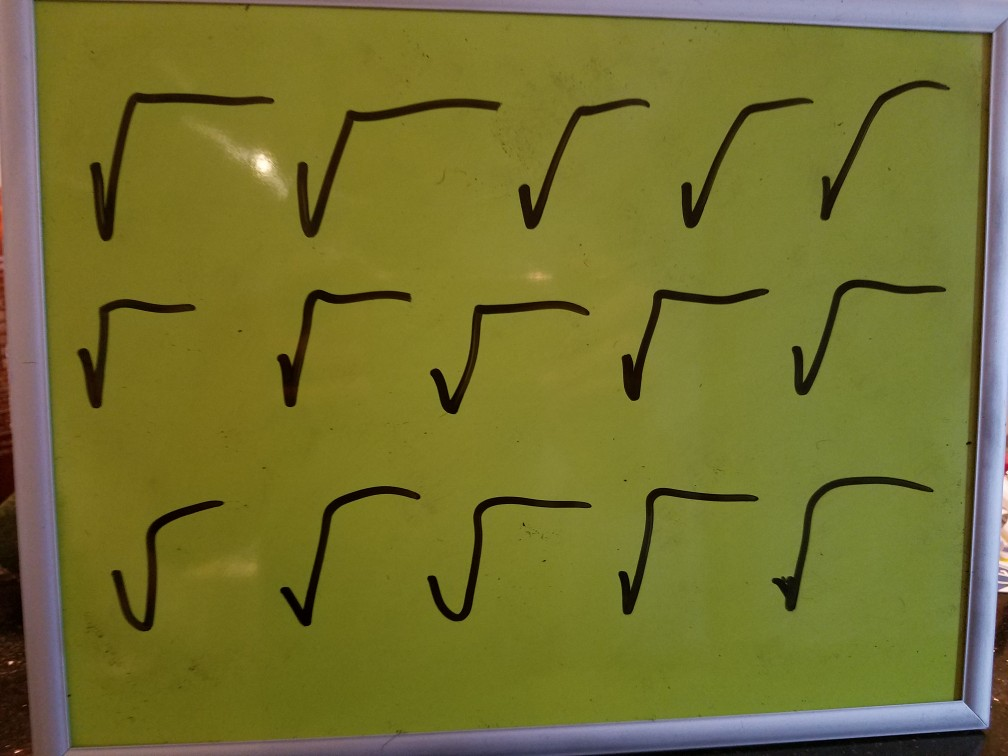sqrt: (60, 59, 271, 246), (282, 68, 504, 240), (752, 438, 938, 623), (417, 457, 592, 651), (251, 462, 423, 645), (604, 453, 763, 640), (773, 254, 953, 410), (413, 274, 598, 423), (93, 476, 239, 664), (607, 259, 780, 417), (504, 66, 656, 244), (244, 263, 420, 416), (665, 71, 816, 241), (815, 64, 959, 235), (51, 282, 207, 407)
